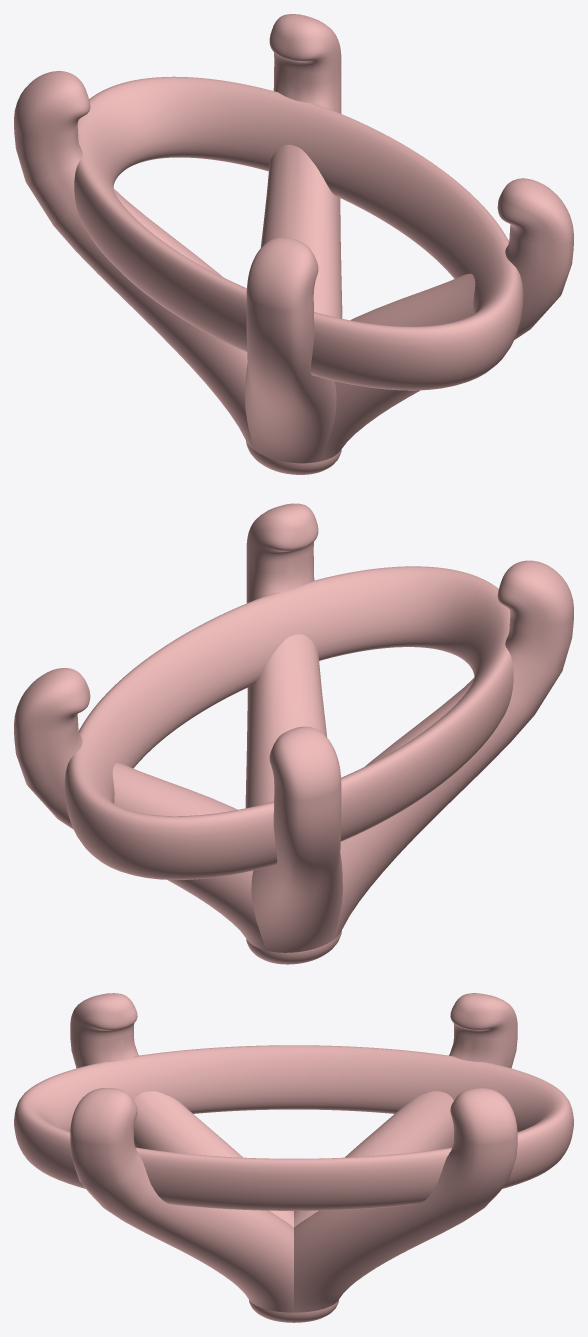
The model's file is MOVAL.glb.
The picture shows the model from 3 angles, top to bottom: view 1: azimuth 30°, elevation 25°; view 2: azimuth 150°, elevation 25°; view 3: azimuth 270°, elevation 25°; orthographic projection. The views are drawn at different scales.
Visible parts, largest first — view 1: oval; view 2: oval; view 3: oval.
Boxes of the visible parts, box(x1,y1,x2,y2) form: oval: box(14, 14, 573, 474); oval: box(14, 503, 573, 964); oval: box(14, 993, 573, 1322).
Size of the model in its own units: 4.28 by 4.3 by 8.01.
